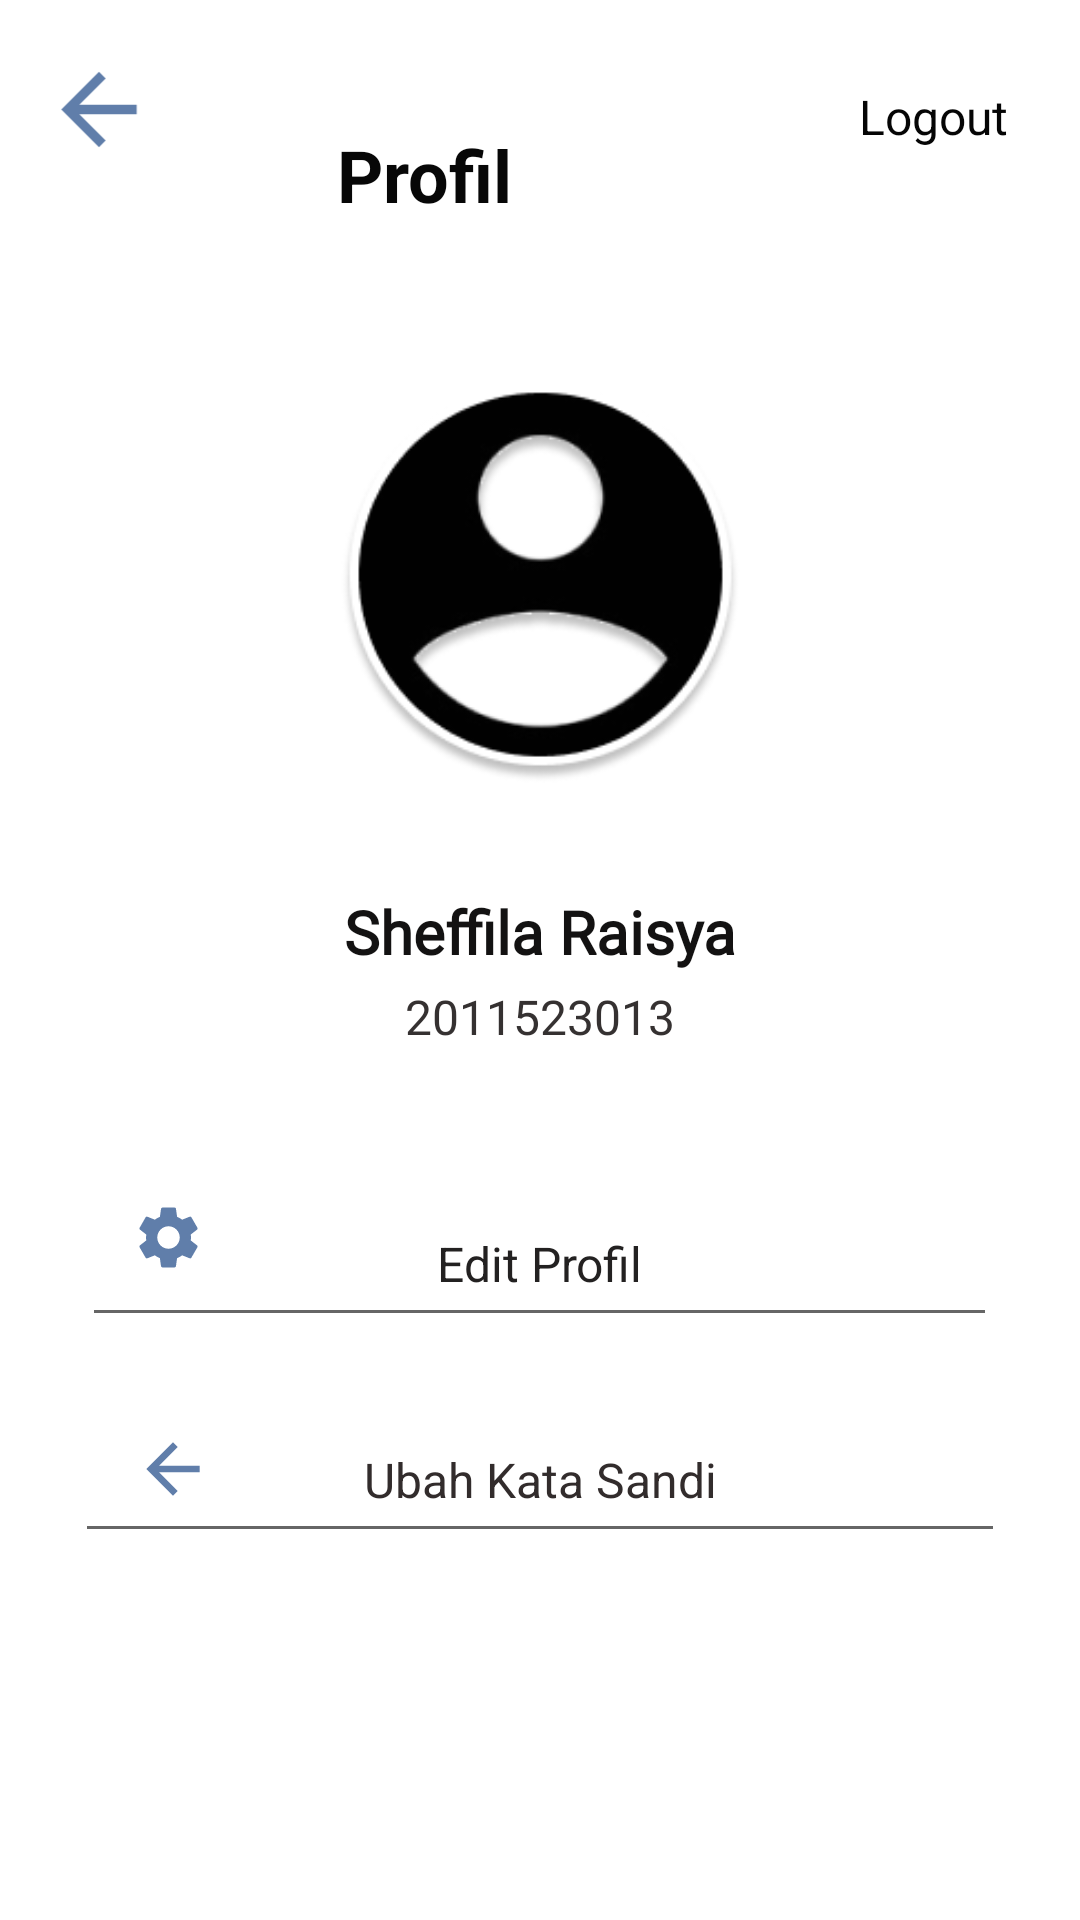

Icon click points for this 1080px x 1920px phone screenshot, format (x,y):
setting: (168,1237)
